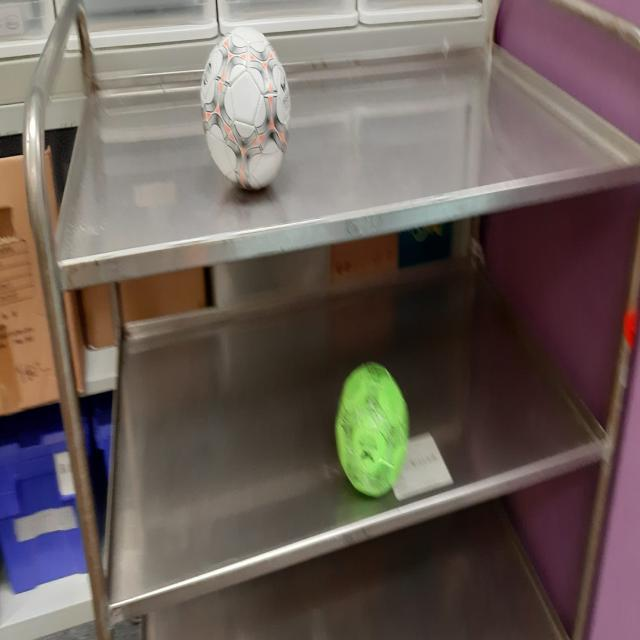ball: (200, 25, 292, 193), (335, 360, 410, 499)
